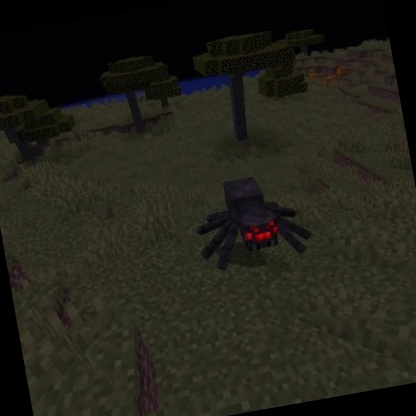spider: (183, 164, 319, 278)
